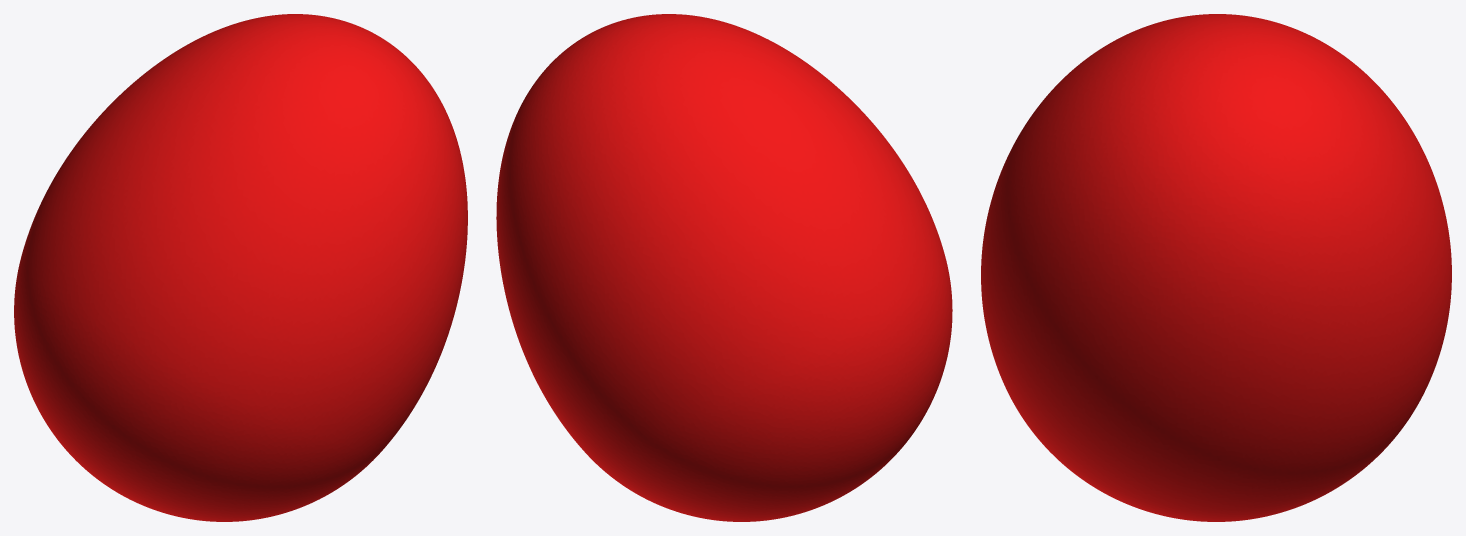
Rendered from leftEye.obj.
3 views of the same model, side by side, from view 1: azimuth 30°, elevation 25°; view 2: azimuth 150°, elevation 25°; view 3: azimuth 270°, elevation 25° (orthographic). The views are drawn at different scales.
Parts seen in each view (by area): view 1: model_9; view 2: model_9; view 3: model_9.
Part boxes in pixels (x1,y1,x2,y2): model_9: (14,14,467,521); model_9: (496,14,952,521); model_9: (981,14,1451,521).
Bounding box in the file's own units: 131 × 142 × 121.
Materials: 1 (1 with a texture image).
